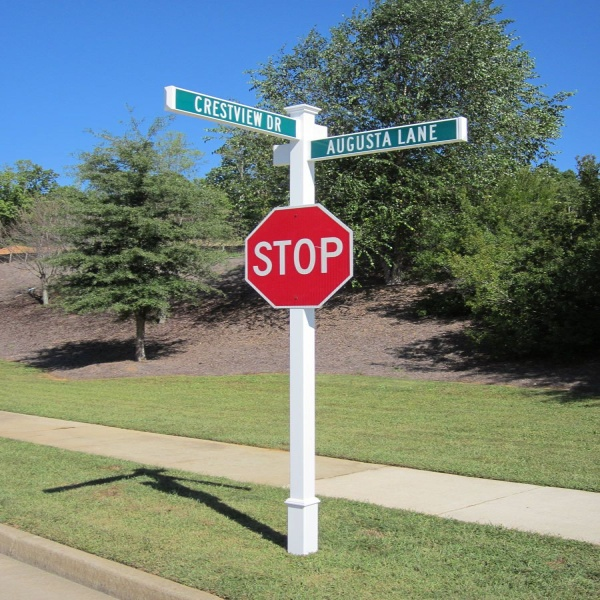stop: (239, 206, 353, 308)
